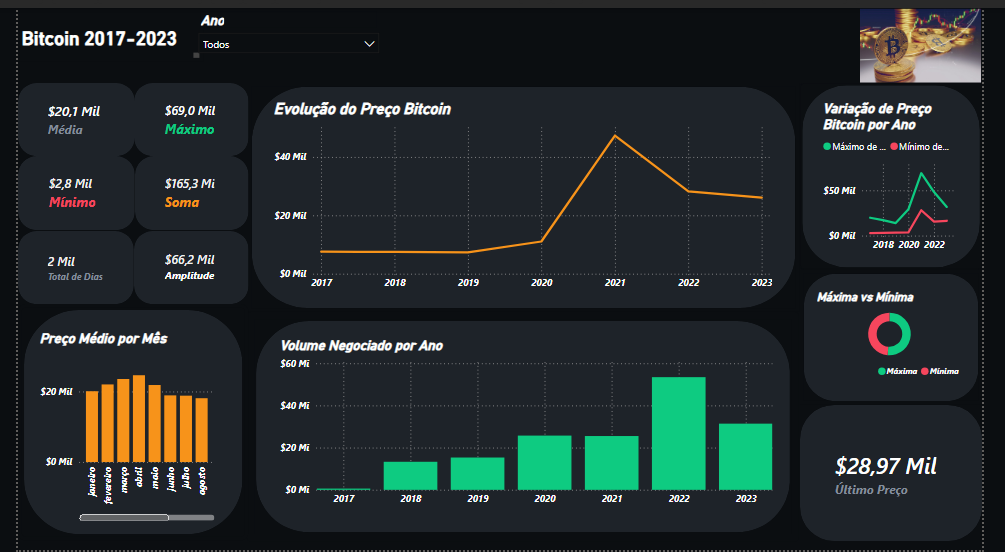

This screenshot's page, from the dashboard's own definition file:
{"tool":"powerbi","page":{"name":"Bitcoin ","canvas":[1280,720],"ordinal":0},"visuals":[{"type":"shape","box":[1038.2,527.3,242,180.7],"z":0},{"type":"shape","box":[1038.2,100.1,242,248],"z":1000},{"type":"shape","box":[1038.2,348,242,179.3],"z":2000},{"type":"shape","box":[304.7,403.3,733.4,304.7],"z":3000},{"type":"shape","box":[305.4,99.8,732.1,303.9],"z":4000},{"type":"shape","box":[0,392.9,306.2,313.7],"z":5000},{"type":"shape","box":[0,100.1,155.4,97.1],"z":6000},{"type":"shape","box":[153.9,100.1,152.4,97.1],"z":7000},{"type":"shape","box":[0,197.2,155.4,98.6],"z":8000},{"type":"shape","box":[155.4,197.2,150.9,98.6],"z":9000},{"type":"shape","box":[0,295.8,153.9,97.1],"z":10000},{"type":"shape","box":[153.9,295.8,152.4,97.1],"z":11000},{"type":"textbox","title":"Bitcoin 2017-2023","box":[0,25.2,245.8,46.5],"z":12000},{"type":"image","box":[1118.8,0,161.3,100.1],"z":13000},{"type":"cardVisual","fields":{"Data":["Max(daily_summary.daily_high)"]},"box":[165.8,109,127,77.7],"z":14000},{"type":"cardVisual","fields":{"Data":["Min(daily_summary.daily_low)"]},"box":[12,207.6,131.5,76.2],"z":15000},{"type":"cardVisual","fields":{"Data":["Sum(daily_summary.total_traded_volume)"]},"box":[165.8,207.6,127,76.2],"z":16000},{"type":"cardVisual","fields":{"Data":["daily_summary.Total de Dias"]},"box":[10.5,306.2,132.9,76.2],"z":17000},{"type":"cardVisual","fields":{"Data":["daily_summary.Amplitude"]},"box":[165.8,305.4,127.4,75.2],"z":18000},{"type":"lineChart","title":"Evolução do Preço Bitcoin","fields":{"Category":["daily_summary.reference_date.Variation.Hierarquia de datas.Ano"],"Y":["Avg(daily_summary.avg_closing_price)"]},"box":[334.6,122.8,672.2,260.9],"z":19000},{"type":"clusteredColumnChart","title":"Volume Negociado por Ano","fields":{"Category":["daily_summary.reference_date.Variation.Hierarquia de datas.Ano"],"Y":["Sum(daily_summary.total_traded_volume)"]},"box":[342.1,437.7,664.7,233],"z":20000},{"type":"areaChart","title":"Variação de Preço Bitcoin por Ano","fields":{"Category":["daily_summary.reference_date.Variation.Hierarquia de datas.Ano"],"Y":["Max(daily_summary.daily_high)","Min(daily_summary.daily_low)"]},"box":[1063.6,122.8,188.8,210.3],"z":21000},{"type":"donutChart","title":"Máxima vs Mínima","fields":{"Y":["Sum(daily_summary.daily_high)","Sum(daily_summary.daily_low)"]},"box":[1056.1,374.9,203.2,125.5],"z":22000},{"type":"cardVisual","title":"Último Preço","fields":{"Data":["daily_summary.Último Preço"]},"box":[1056.1,549.7,203.2,135.9],"z":23000},{"type":"clusteredColumnChart","title":"Preço Médio por Mês","fields":{"Category":["daily_summary.reference_date.Variation.Hierarquia de datas.Mês"],"Y":["Avg(daily_summary.avg_closing_price)"]},"box":[23.9,427.2,242,258.4],"z":24000},{"type":"cardVisual","fields":{"Data":["Avg(daily_summary.avg_closing_price)"]},"box":[10.5,109,132.9,77.7],"z":25000},{"type":"slicer","fields":{"Values":["daily_summary.reference_date.Variation.Hierarquia de datas.Ano"]},"box":[230,0,259.9,61.2],"z":25001}]}

Visuals, with their boxes in screenshot pixels (x1, y1, x2, y2), scaled from the page's 1280x720 canvas onto the 1005x552 screenshot:
shape: detection(815, 404, 1004, 543)
shape: detection(815, 77, 1004, 267)
shape: detection(815, 267, 1004, 404)
shape: detection(239, 309, 815, 543)
shape: detection(240, 77, 815, 310)
shape: detection(0, 301, 240, 542)
shape: detection(0, 77, 122, 151)
shape: detection(121, 77, 240, 151)
shape: detection(0, 151, 122, 227)
shape: detection(122, 151, 240, 227)
shape: detection(0, 227, 121, 301)
shape: detection(121, 227, 240, 301)
"Bitcoin 2017-2023" textbox: detection(0, 19, 193, 55)
image: detection(878, 0, 1004, 77)
cardVisual - Max(daily_summary.daily_high): detection(130, 84, 230, 143)
cardVisual - Min(daily_summary.daily_low): detection(9, 159, 113, 218)
cardVisual - Sum(daily_summary.total_traded_volume): detection(130, 159, 230, 218)
cardVisual - daily_summary.Total de Dias: detection(8, 235, 113, 293)
cardVisual - daily_summary.Amplitude: detection(130, 234, 230, 292)
"Evolução do Preço Bitcoin" lineChart: detection(263, 94, 790, 294)
"Volume Negociado por Ano" clusteredColumnChart: detection(269, 336, 790, 514)
"Variação de Preço Bitcoin por Ano" areaChart: detection(835, 94, 983, 255)
"Máxima vs Mínima" donutChart: detection(829, 287, 989, 384)
"Último Preço" cardVisual: detection(829, 421, 989, 526)
"Preço Médio por Mês" clusteredColumnChart: detection(19, 328, 209, 526)
cardVisual - Avg(daily_summary.avg_closing_price): detection(8, 84, 113, 143)
slicer - daily_summary.reference_date.Variation.Hierarquia de datas.Ano: detection(181, 0, 385, 47)
